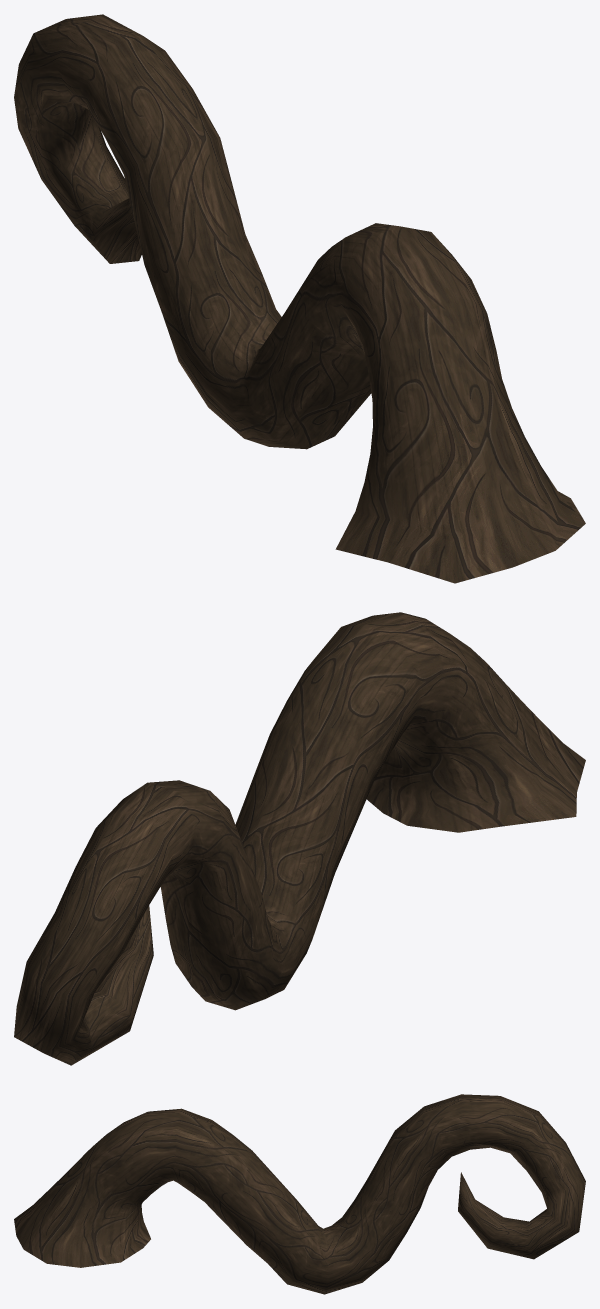
The model's file is rootGreen1.fbx.
3 views of the same model, one above another, from view 1: azimuth 30°, elevation 25°; view 2: azimuth 150°, elevation 25°; view 3: azimuth 270°, elevation 25° (orthographic). The views are drawn at different scales.
Parts seen in each view (by area): view 1: rootGreen1; view 2: rootGreen1; view 3: rootGreen1.
Part boxes in pixels (x1,y1,x2,y2): rootGreen1: [14, 14, 585, 583]; rootGreen1: [14, 612, 585, 1065]; rootGreen1: [14, 1094, 585, 1294].
Size of the model in its own units: 404 by 544 by 1525.
